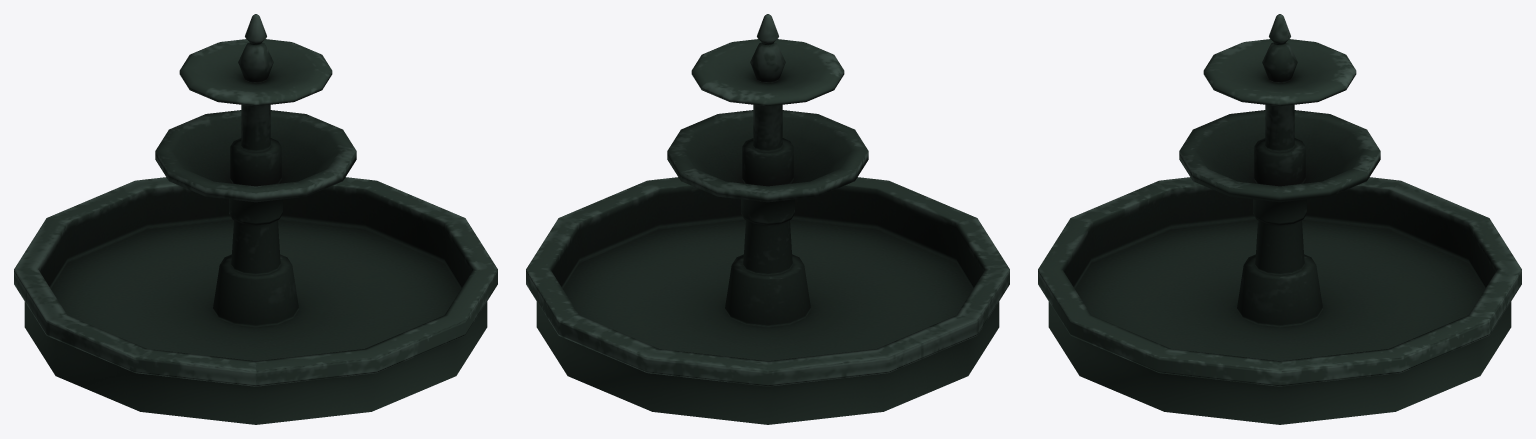
Rendered from Fountain.fbx.
3 renders of one model, left to right at view 1: azimuth 30°, elevation 25°; view 2: azimuth 150°, elevation 25°; view 3: azimuth 270°, elevation 25°, orthographic.
Visible parts, largest first — view 1: hunsui; view 2: hunsui; view 3: hunsui.
Part boxes in pixels (box(x1,y1,x2,y2)): hunsui: box(14, 14, 497, 424); hunsui: box(526, 14, 1009, 424); hunsui: box(1038, 14, 1521, 424).
Size of the model in its own units: 0.1275 by 0.0908 by 0.1275.
Materials: 1 (1 with a texture image).
